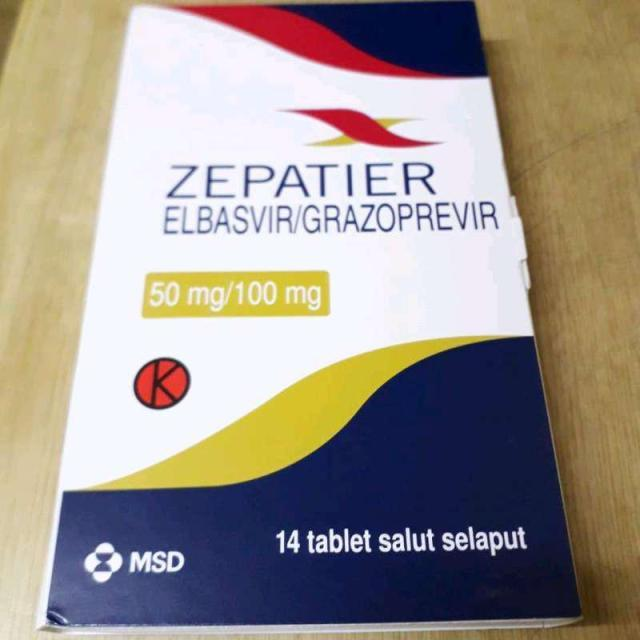drug-name: (159, 158, 442, 200)
